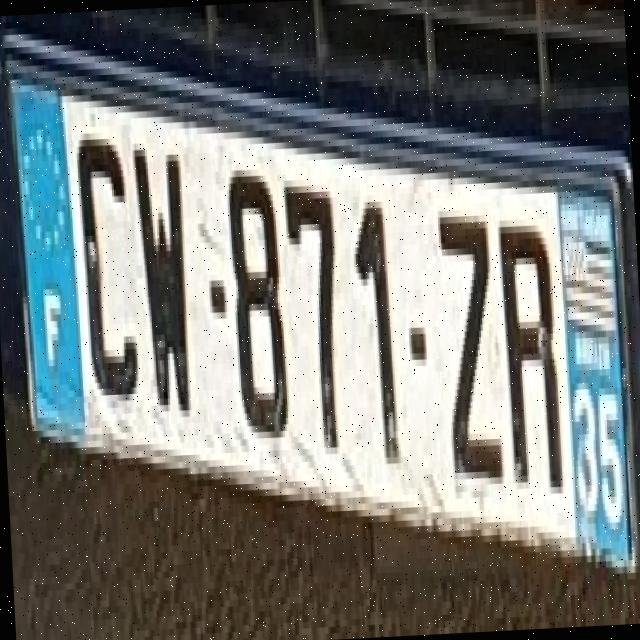EU: (14, 75, 628, 546)
France: (13, 81, 86, 433)
